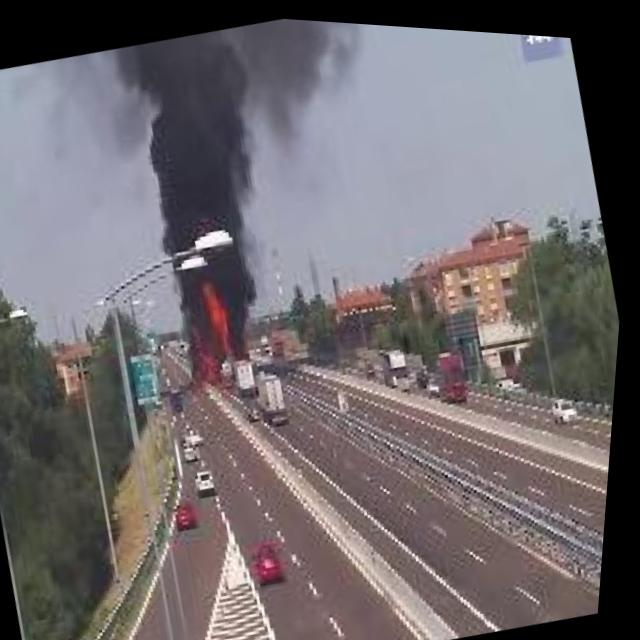fire: (167, 263, 258, 393)
